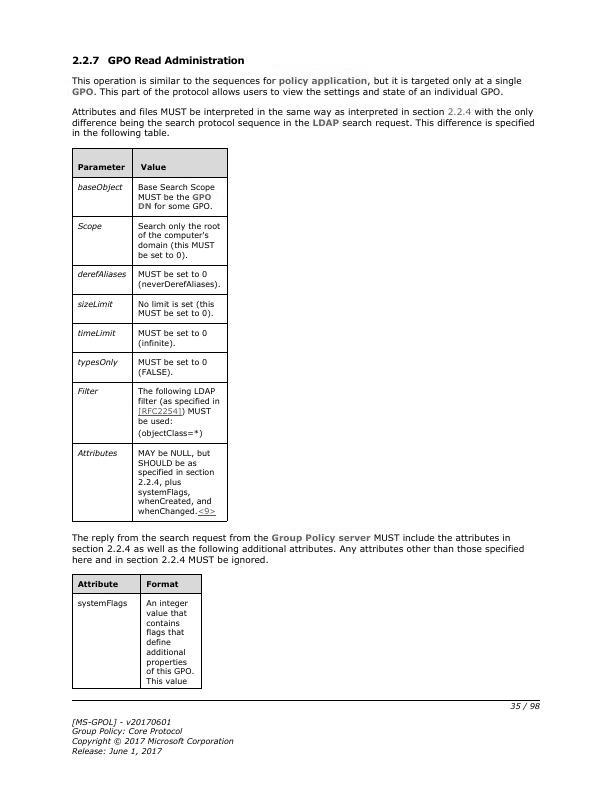table: (72, 147, 230, 524), (72, 575, 202, 690)
text: (69, 530, 527, 566), (69, 105, 537, 139), (68, 74, 524, 98), (68, 713, 235, 759), (69, 51, 245, 69)
